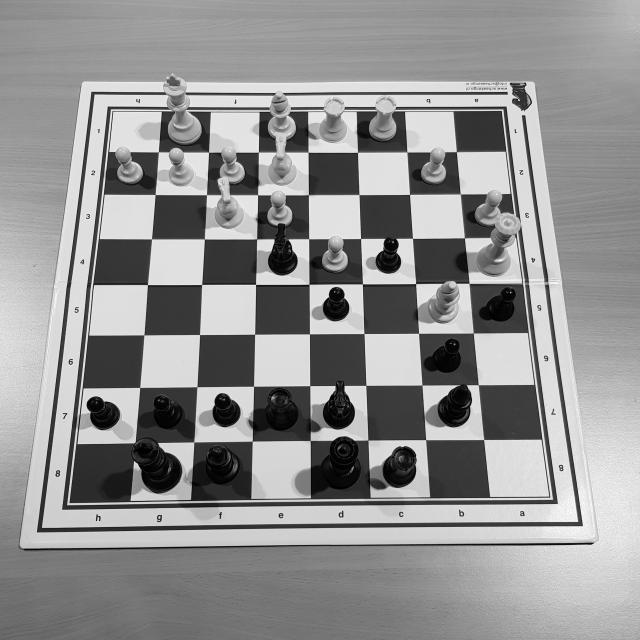chessboard: (68, 105, 554, 508)
